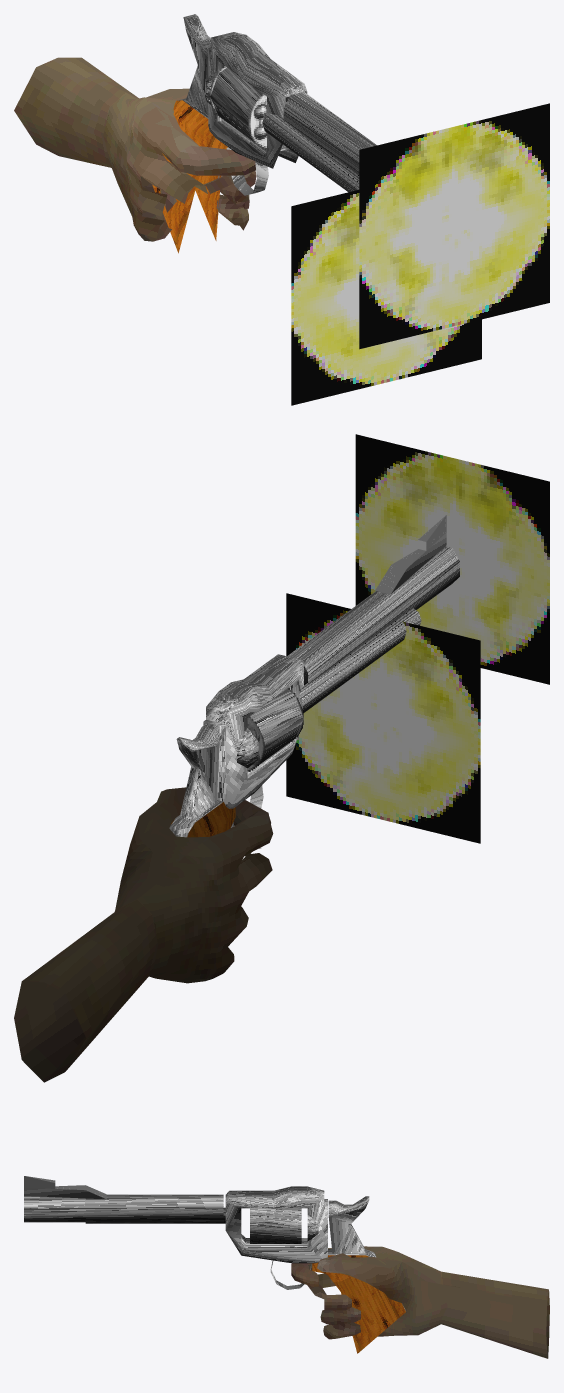
File: GrugerZ.obj
The picture shows the model from 3 angles, top to bottom: view 1: azimuth 30°, elevation 25°; view 2: azimuth 150°, elevation 25°; view 3: azimuth 270°, elevation 25°; orthographic projection. The views are drawn at different scales.
Size of the model in its own units: 160 by 258 by 582.
Materials: 31 (31 with a texture image).
